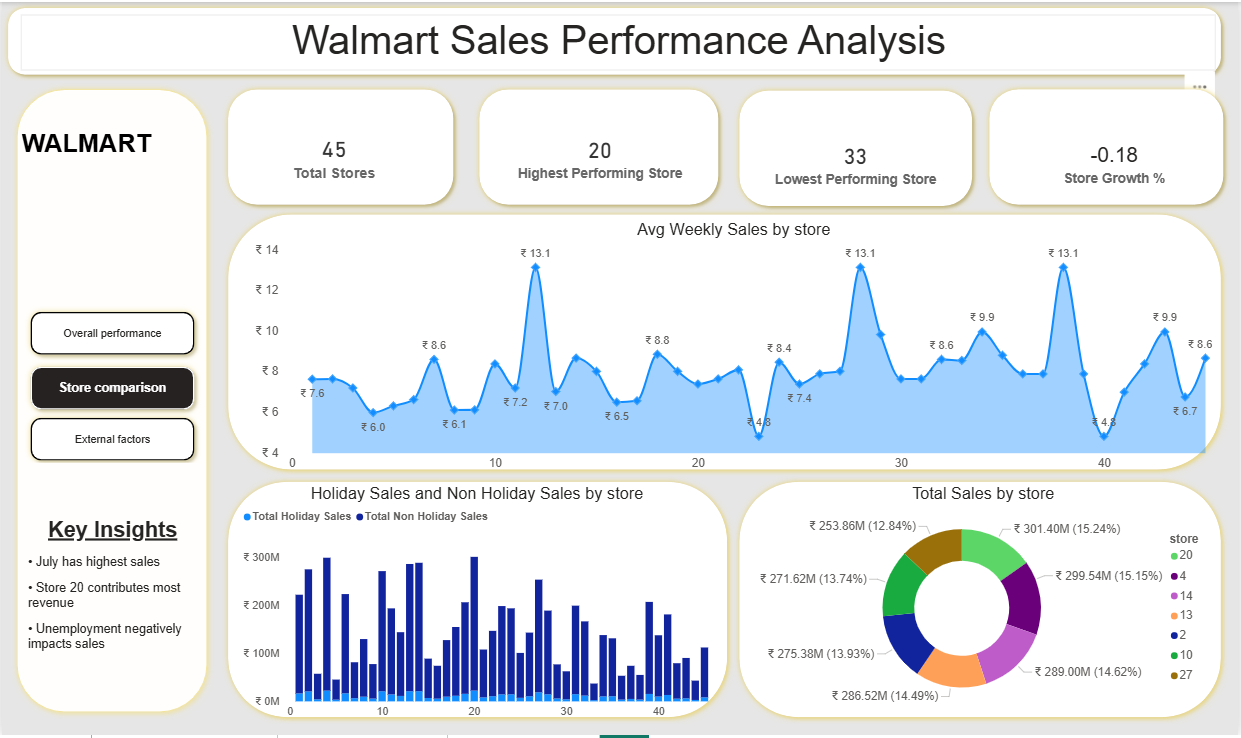

This screenshot's page, from the dashboard's own definition file:
{"tool":"powerbi","page":{"name":"Store comparison","canvas":[1820,1080],"ordinal":1},"visuals":[{"type":"shape","box":[0,0,1803.7,116],"z":0},{"type":"textbox","box":[27.6,18.4,1759.5,82.8],"z":1000},{"type":"shape","box":[323.9,303.7,1479.8,393.9],"z":2000},{"type":"shape","box":[323.9,697.5,752.8,364.4],"z":3000},{"type":"shape","box":[1076.7,697.5,727,364.4],"z":4000},{"type":"shape","box":[323.9,119.6,349.7,187.7],"z":5000},{"type":"shape","box":[1444.8,119.6,362.6,187.7],"z":6000},{"type":"shape","box":[1076.7,121.5,360.7,187.7],"z":7000},{"type":"shape","box":[693.9,119.6,369.9,187.7],"z":8000},{"type":"areaChart","fields":{"Category":["walmart.store"],"Y":["walmart.Avg Weekly Sales"]},"box":[368.1,322.1,1419,375.5],"z":9000},{"type":"columnChart","title":"Holiday Sales and Non Holiday Sales by store","fields":{"Category":["walmart.store"],"Y":["walmart.Total Holiday Sales","walmart.Total Non Holiday Sales"]},"box":[349.7,710.4,699.4,351.5],"z":10000},{"type":"donutChart","fields":{"Category":["walmart.store"],"Y":["walmart.Total Sales"]},"box":[1102.5,710.4,684.7,338.7],"z":11000},{"type":"advanceCardE03760C5AB684758B56AA29F9E6C257B","fields":{"mainMeasure":["walmart.Total Stores"]},"box":[344.2,143.6,290.8,171.2],"z":12000},{"type":"advanceCardE03760C5AB684758B56AA29F9E6C257B","fields":{"mainMeasure":["walmart.Highest Performing Store"]},"box":[738,145.4,285.3,169.3],"z":13000},{"type":"advanceCardE03760C5AB684758B56AA29F9E6C257B","fields":{"mainMeasure":["walmart.Lowest Performing Store"]},"box":[1113.5,152.8,287.1,171.2],"z":14000},{"type":"cardVisual","fields":{"Data":["walmart.Store Growth %"]},"box":[1476.1,154.6,301.8,149.1],"z":15000},{"type":"shape","box":[12.9,119.6,298.2,935],"z":16000},{"type":"pageNavigator","box":[33.1,447.2,259.5,231.9],"z":16001},{"type":"textbox","box":[33.1,754.6,259.5,263.2],"z":16002},{"type":"textbox","box":[23.9,182.2,300,68.1],"z":16003}]}

Visuals, with their boxes in screenshot pixels (x1, y1, x2, y2), scaled from the page's 1820x1080 canvas onto the 1241x738 screenshot:
shape: bbox(0, 0, 1230, 79)
textbox: bbox(19, 13, 1219, 69)
shape: bbox(221, 208, 1230, 477)
shape: bbox(221, 477, 734, 726)
shape: bbox(734, 477, 1230, 726)
shape: bbox(221, 82, 459, 210)
shape: bbox(985, 82, 1232, 210)
shape: bbox(734, 83, 980, 211)
shape: bbox(473, 82, 725, 210)
areaChart - walmart.store x walmart.Avg Weekly Sales: bbox(251, 220, 1219, 477)
"Holiday Sales and Non Holiday Sales by store" columnChart: bbox(238, 485, 715, 726)
donutChart - walmart.store x walmart.Total Sales: bbox(752, 485, 1219, 717)
advanceCardE03760C5AB684758B56AA29F9E6C257B - walmart.Total Stores: bbox(235, 98, 433, 215)
advanceCardE03760C5AB684758B56AA29F9E6C257B - walmart.Highest Performing Store: bbox(503, 99, 698, 215)
advanceCardE03760C5AB684758B56AA29F9E6C257B - walmart.Lowest Performing Store: bbox(759, 104, 955, 221)
cardVisual - walmart.Store Growth %: bbox(1007, 106, 1212, 208)
shape: bbox(9, 82, 212, 721)
pageNavigator: bbox(23, 306, 200, 464)
textbox: bbox(23, 516, 200, 695)
textbox: bbox(16, 125, 221, 171)
